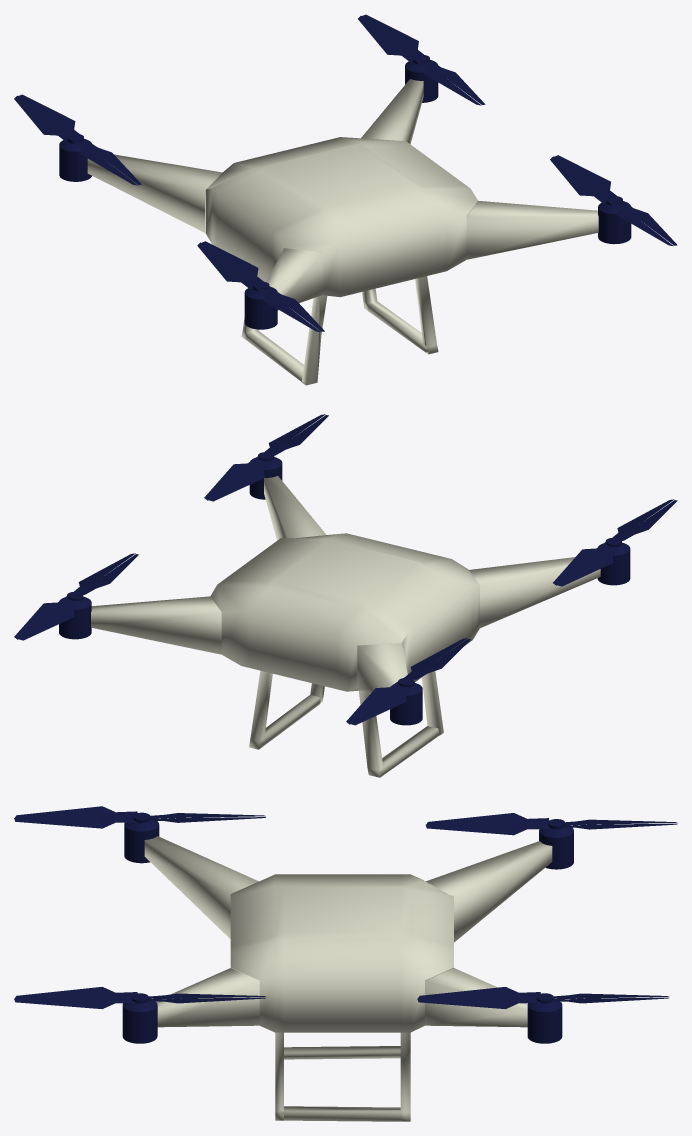
Rendered from drone_color-model.fbx.
The picture shows the model from 3 angles, top to bottom: view 1: azimuth 30°, elevation 25°; view 2: azimuth 150°, elevation 25°; view 3: azimuth 270°, elevation 25°; orthographic projection. The views are drawn at different scales.
Visible parts, largest first — view 1: Plane.004; view 2: Plane.004; view 3: Plane.004.
Part boxes in pixels (<box>): Plane.004: <box>14,14,677,385</box>; Plane.004: <box>14,414,677,777</box>; Plane.004: <box>14,806,677,1121</box>.
Size of the model in its own units: 563 by 245 by 802.
